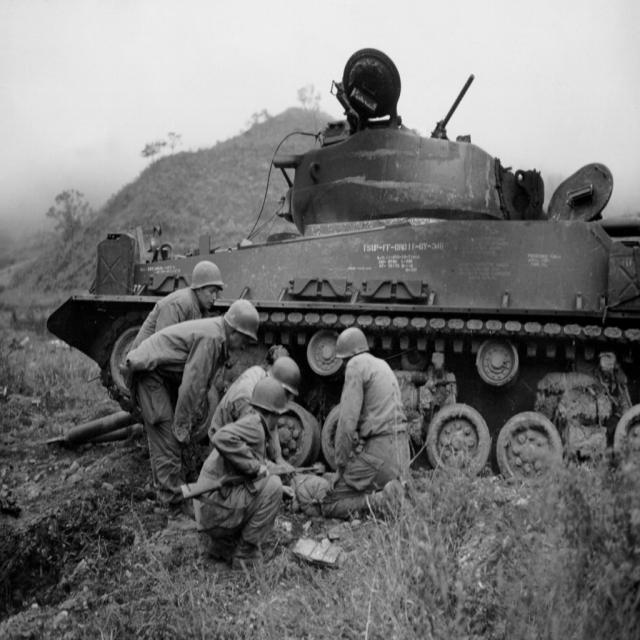tank: (45, 48, 639, 485)
